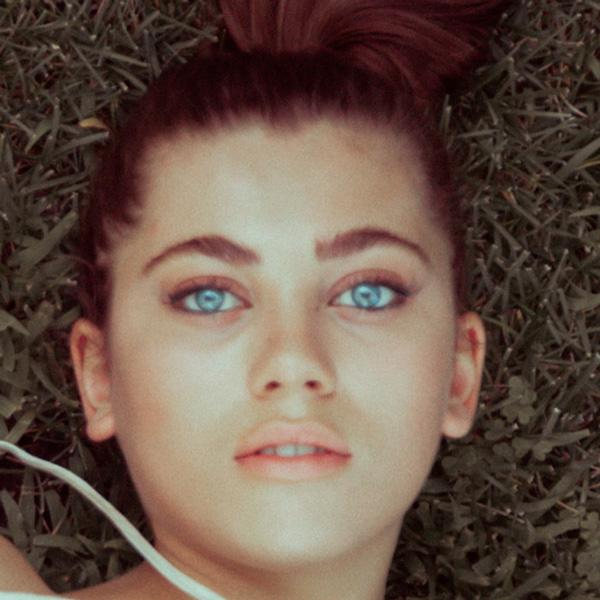Eyes: (317, 264, 417, 328), (158, 271, 265, 327)
